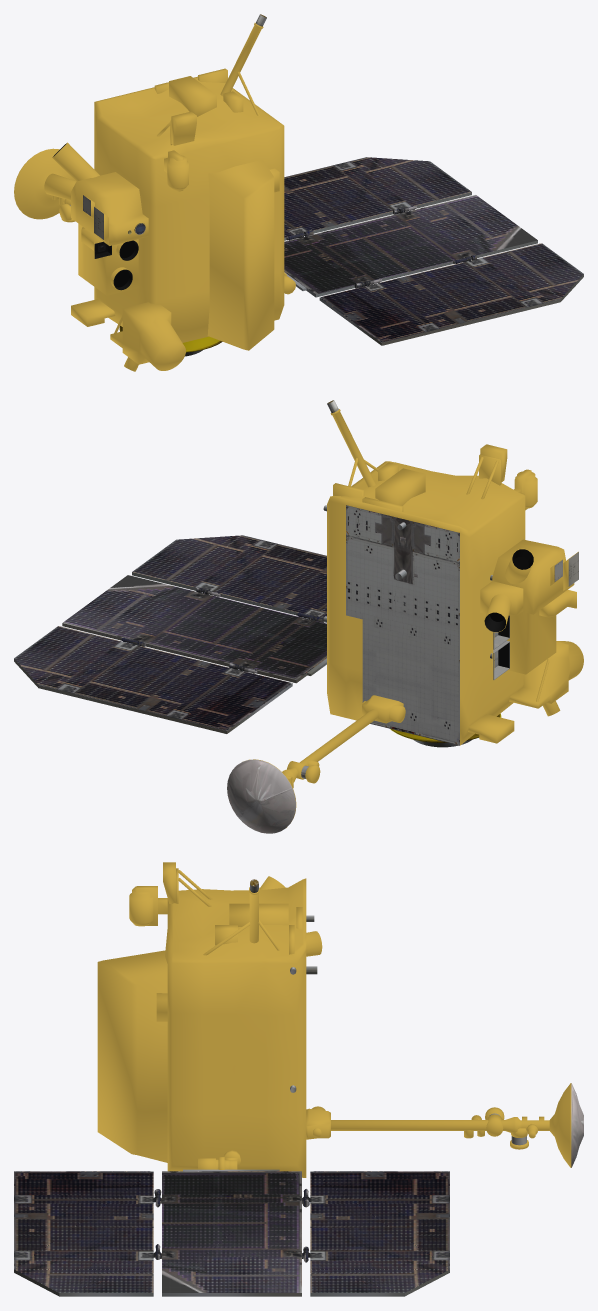
Rendered from LRO2.glb.
The picture shows the model from 3 angles, top to bottom: view 1: azimuth 30°, elevation 25°; view 2: azimuth 150°, elevation 25°; view 3: azimuth 270°, elevation 25°; orthographic projection. The views are drawn at different scales.
Visible parts, largest first — view 1: foil_silver, tex, dark_black; view 2: tex, foil_silver, panel, foil_silver_dish, dark_black; view 3: foil_silver, tex, foil_silver_dish.
Part boxes in pixels (<box>): foil_silver: <box>14,22,295,371</box>; tex: <box>70,14,583,356</box>; dark_black: <box>53,143,138,290</box>; tex: <box>14,400,578,778</box>; foil_silver: <box>249,409,583,827</box>; panel: <box>346,505,459,745</box>; foil_silver_dish: <box>227,759,295,833</box>; dark_black: <box>484,549,533,668</box>; foil_silver: <box>97,862,571,1177</box>; tex: <box>14,879,526,1296</box>; foil_silver_dish: <box>571,1083,583,1167</box>.
Bounding box in the file's own units: 5.45 × 3.66 × 5.5.
Materials: 7 (5 with a texture image).
